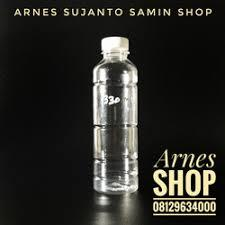BIODEGRADABLE: (78, 33, 157, 199)
